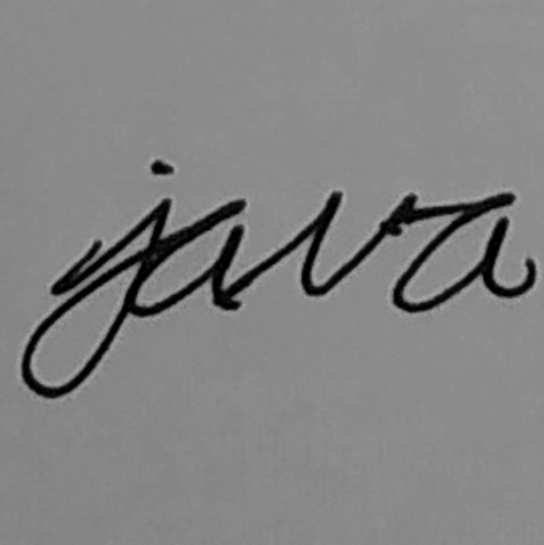a: (388, 188, 518, 316), (119, 196, 251, 317)
j: (18, 158, 178, 402)
v: (295, 185, 422, 298)
